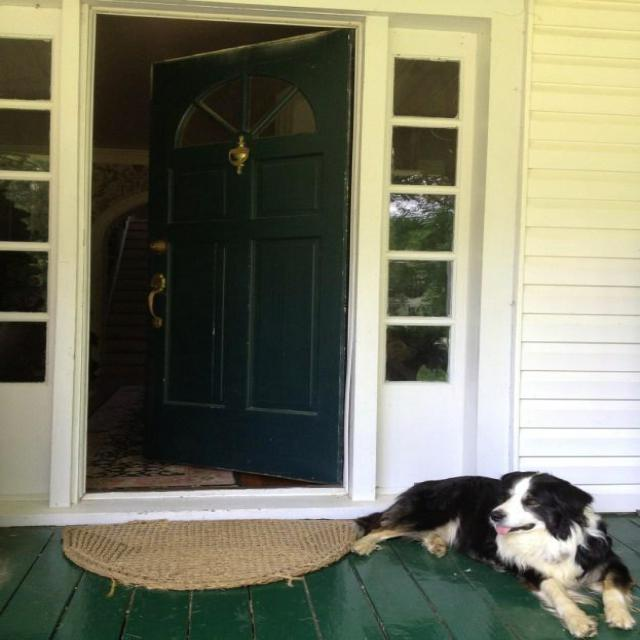door: (144, 28, 352, 485)
